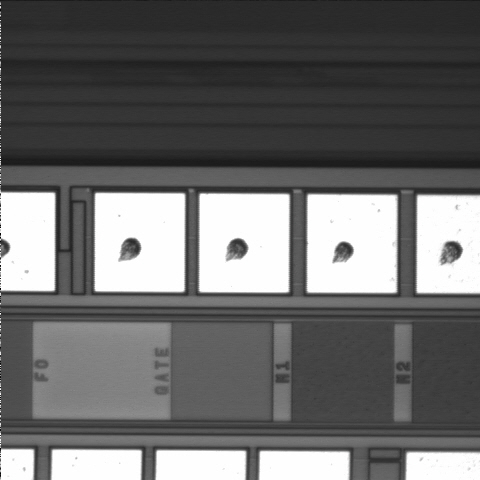pad: (95, 193, 185, 292), (307, 194, 397, 293), (199, 194, 289, 292)
